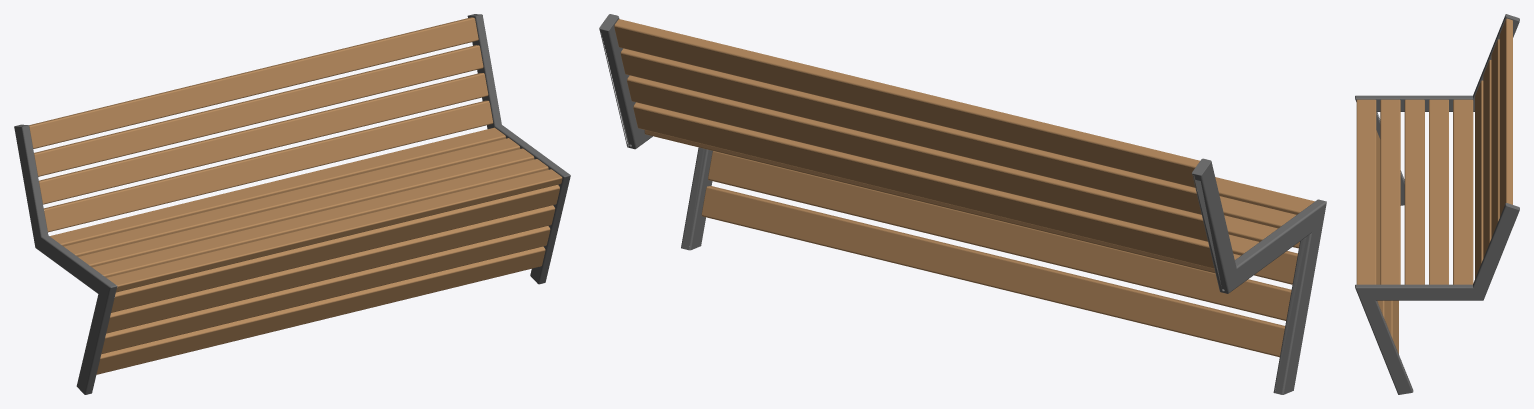
Rendered from reka.glb.
3 renders of one model, left to right at view 1: azimuth 30°, elevation 25°; view 2: azimuth 150°, elevation 25°; view 3: azimuth 270°, elevation 25°, orthographic. The views are drawn at different scales.
Visible parts, largest first — view 1: empty_3, empty_2; view 2: empty_3, empty_2; view 3: empty_3, empty_2.
Boxes of the visible parts, box(x1,y1,x2,y2) form: empty_3: box(29, 17, 562, 374); empty_2: box(14, 14, 570, 394); empty_3: box(614, 19, 1314, 357); empty_2: box(599, 14, 1326, 394); empty_3: box(1356, 18, 1512, 353); empty_2: box(1355, 14, 1519, 394).
Size of the model in its own units: 1.8 by 0.8278 by 0.6528.
